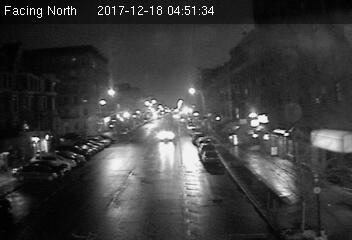car: (202, 149, 220, 165), (155, 128, 175, 142)
